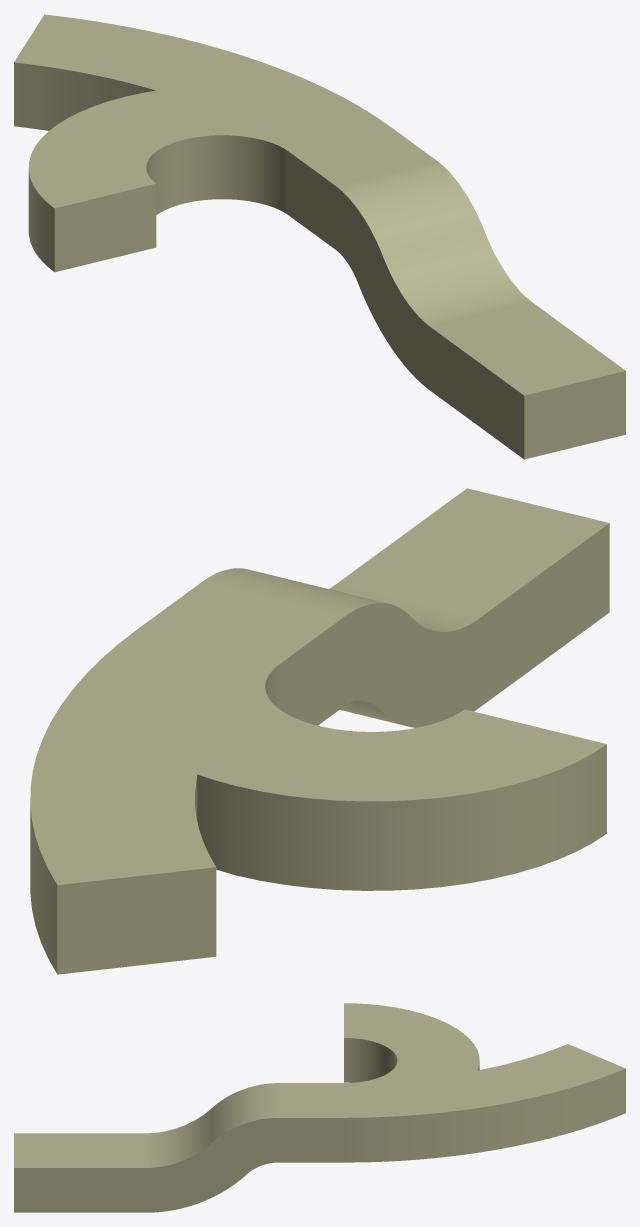
File: model_05_hover.glb
The picture shows the model from 3 angles, top to bottom: view 1: azimuth 30°, elevation 25°; view 2: azimuth 150°, elevation 25°; view 3: azimuth 270°, elevation 25°; orthographic projection. The views are drawn at different scales.
Bounding box in the file's own units: 101 × 38.81 × 227.
